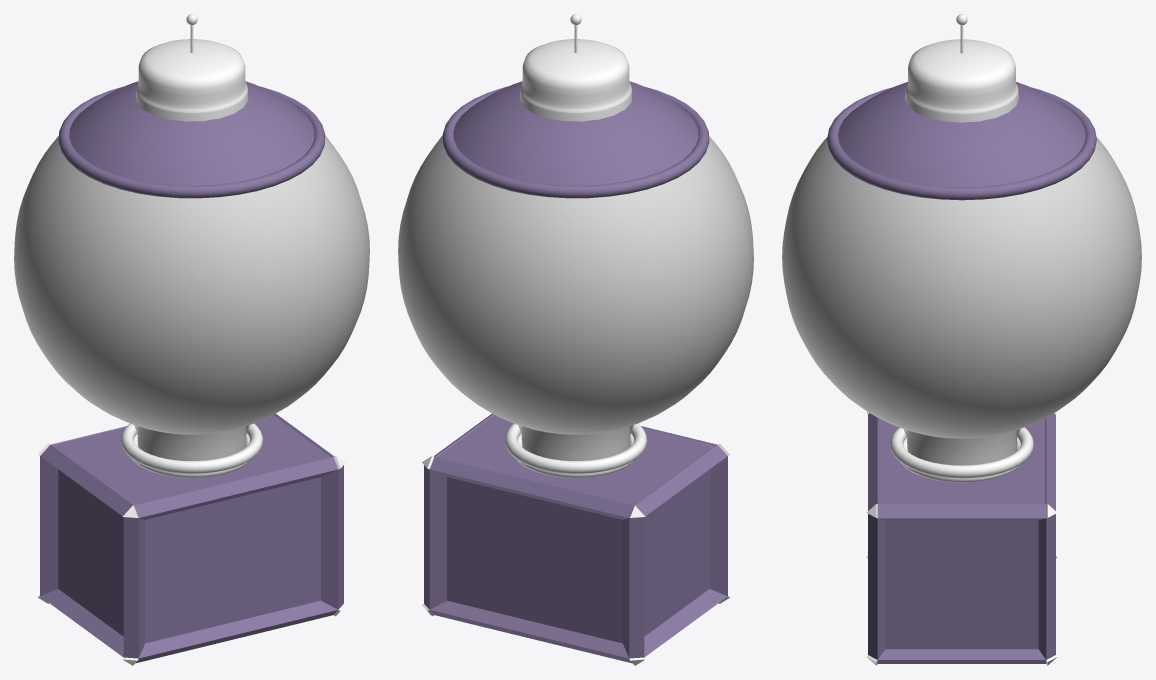
File: capsule_main_machine.glb
3 views of the same model, side by side, from view 1: azimuth 30°, elevation 25°; view 2: azimuth 150°, elevation 25°; view 3: azimuth 270°, elevation 25° (orthographic).
Visible parts, largest first — view 1: pasted__pSphere3, pasted__pCube1, pasted__pasted__pSphere3, pasted__pasted__pasted__pSphere1, pasted__pTorus2, pasted__pTorus1, pasted__pasted__pTorus1; view 2: pasted__pSphere3, pasted__pCube1, pasted__pasted__pSphere3, pasted__pasted__pasted__pSphere1, pasted__pTorus2, pasted__pTorus1, pasted__pasted__pTorus1; view 3: pasted__pSphere3, pasted__pCube1, pasted__pasted__pSphere3, pasted__pasted__pasted__pSphere1, pasted__pTorus2, pasted__pTorus1, pasted__pasted__pTorus1.
Part boxes in pixels (x1,y1,x2,y2): pasted__pSphere3: (14, 136, 369, 460); pasted__pCube1: (38, 413, 345, 665); pasted__pasted__pSphere3: (69, 81, 314, 185); pasted__pasted__pasted__pSphere1: (135, 39, 248, 121); pasted__pTorus2: (58, 86, 325, 198); pasted__pTorus1: (121, 423, 262, 473); pasted__pasted__pTorus1: (132, 433, 252, 477); pasted__pSphere3: (398, 136, 753, 460); pasted__pCube1: (422, 413, 729, 665); pasted__pasted__pSphere3: (453, 81, 698, 185); pasted__pasted__pasted__pSphere1: (519, 39, 632, 121); pasted__pTorus2: (442, 86, 709, 198); pasted__pTorus1: (505, 423, 646, 473); pasted__pasted__pTorus1: (515, 433, 635, 477); pasted__pSphere3: (782, 137, 1141, 465); pasted__pCube1: (866, 412, 1057, 665); pasted__pasted__pSphere3: (838, 82, 1085, 187); pasted__pasted__pasted__pSphere1: (905, 39, 1018, 122); pasted__pTorus2: (827, 87, 1096, 200); pasted__pTorus1: (890, 427, 1033, 478); pasted__pasted__pTorus1: (901, 438, 1022, 482).
Size of the model in its own units: 0.0885 by 0.1632 by 0.0885.
